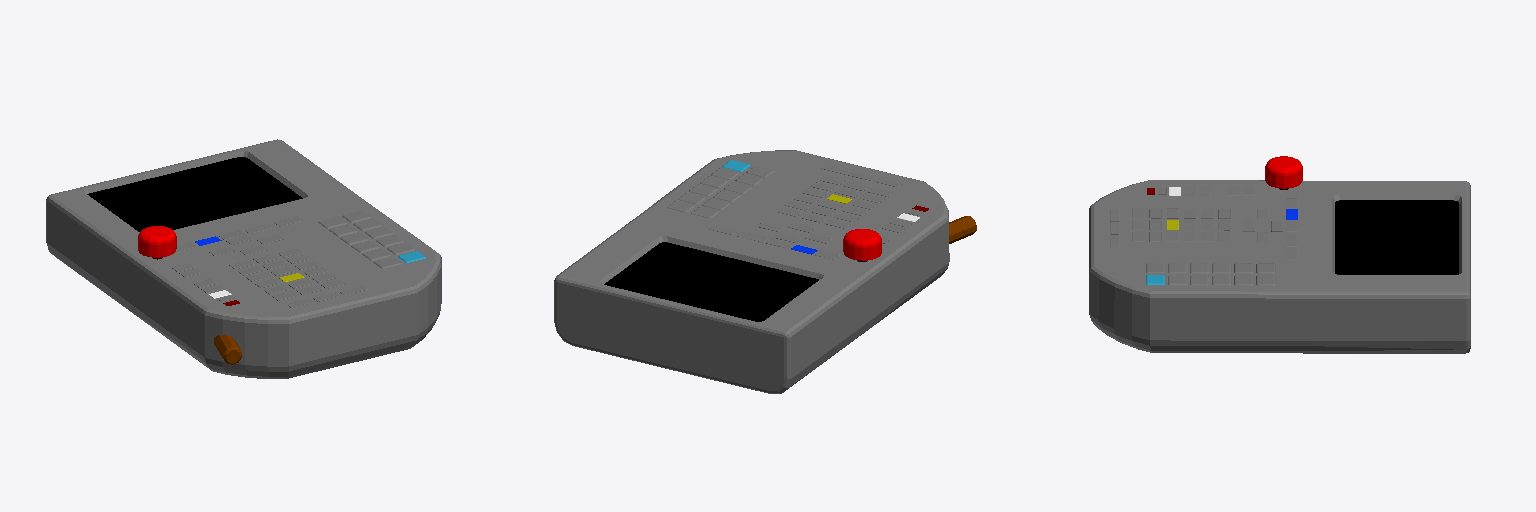
File: pendant.obj
3 renders of one model, left to right at view 1: azimuth 30°, elevation 25°; view 2: azimuth 150°, elevation 25°; view 3: azimuth 270°, elevation 25°, orthographic.
Parts seen in each view (by area): view 1: g pendant:pCube8_pendant:pCube8, g pendant:pCube9_pendant:pCube9, g pendant:pCylinder1_pendant:pCylinder1; view 2: g pendant:pCube8_pendant:pCube8, g pendant:pCube9_pendant:pCube9, g pendant:pCylinder1_pendant:pCylinder1; view 3: g pendant:pCube8_pendant:pCube8, g pendant:pCube9_pendant:pCube9, g pendant:pCylinder1_pendant:pCylinder1.
Boxes of the visible parts, x1,y1,x2,y2 form: g pendant:pCube8_pendant:pCube8: [46, 139, 441, 378]; g pendant:pCube9_pendant:pCube9: [87, 157, 302, 231]; g pendant:pCylinder1_pendant:pCylinder1: [138, 226, 176, 259]; g pendant:pCube8_pendant:pCube8: [554, 150, 976, 393]; g pendant:pCube9_pendant:pCube9: [604, 242, 818, 321]; g pendant:pCylinder1_pendant:pCylinder1: [843, 229, 881, 261]; g pendant:pCube8_pendant:pCube8: [1089, 180, 1470, 353]; g pendant:pCube9_pendant:pCube9: [1335, 200, 1458, 274]; g pendant:pCylinder1_pendant:pCylinder1: [1265, 156, 1302, 189].
Size of the model in its own units: 226 by 83.15 by 310.